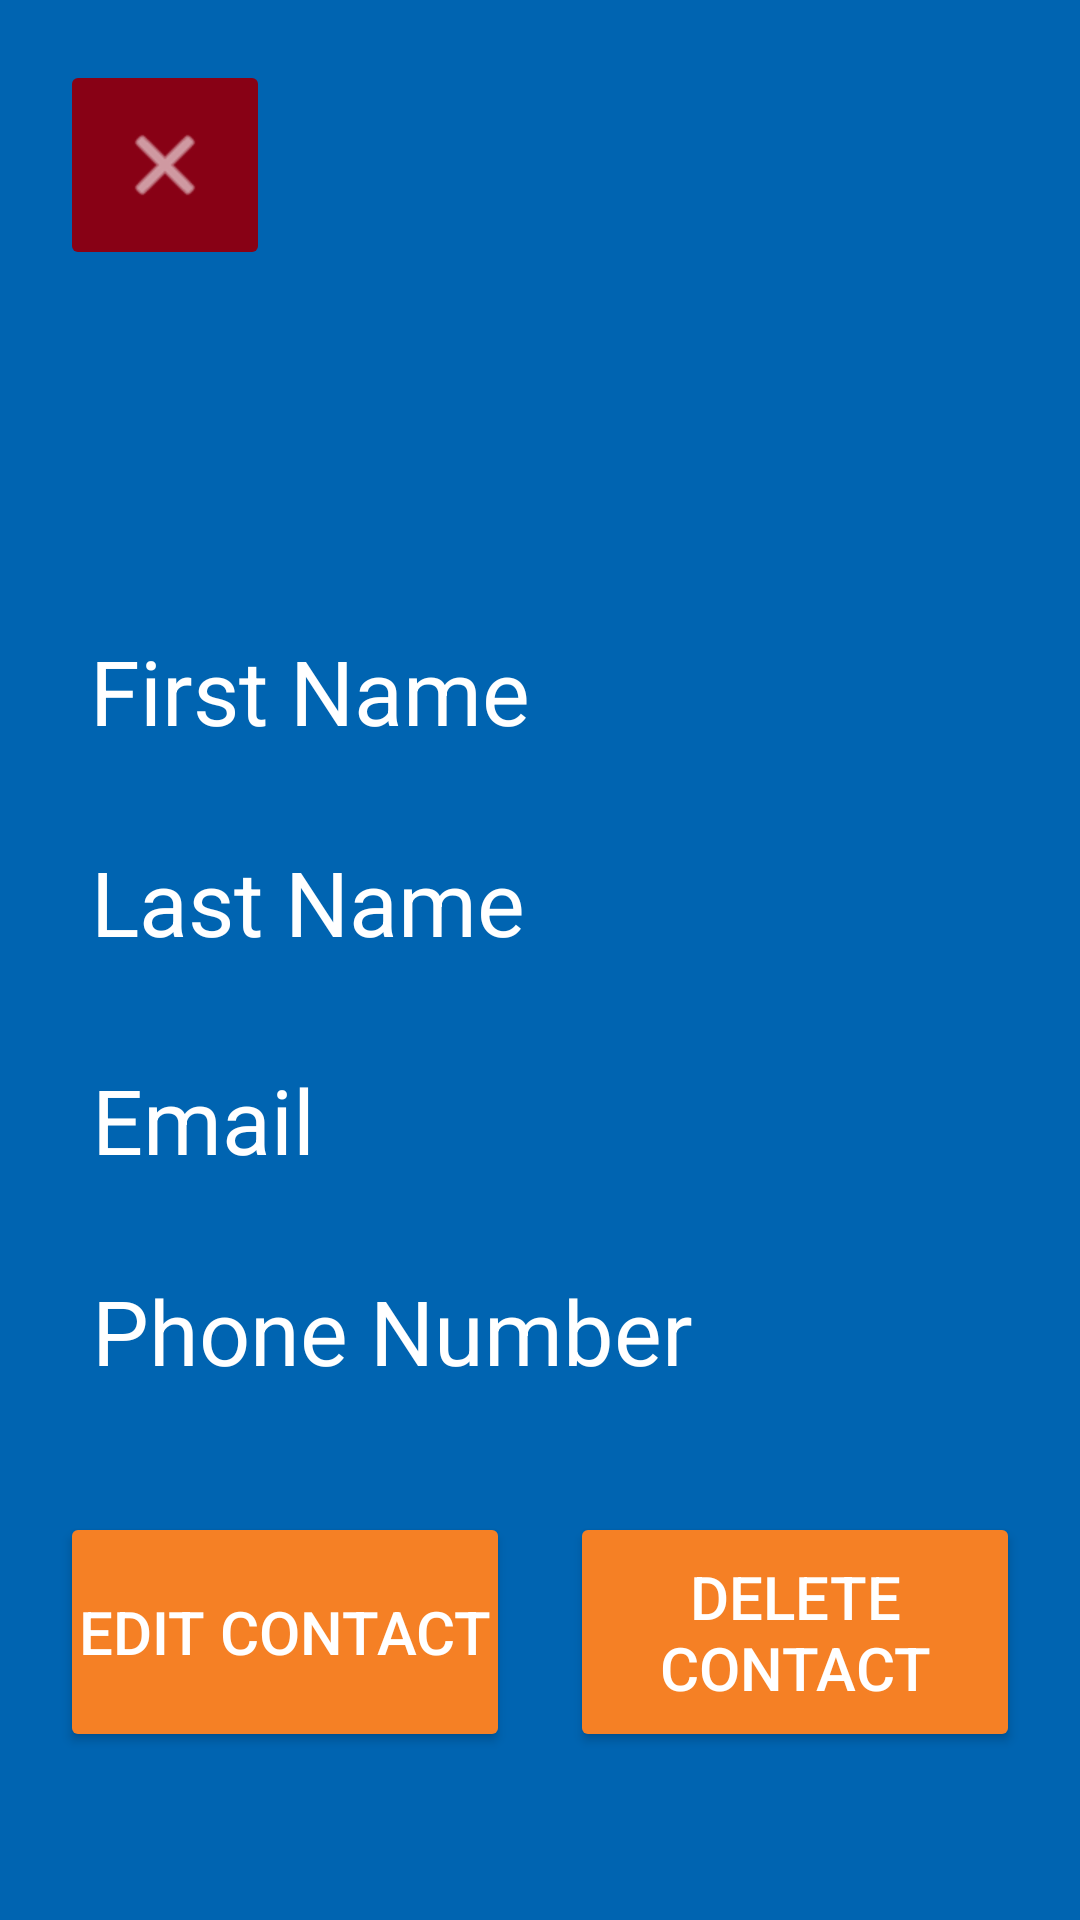

Screen size 1080 × 1920. Icon name, then its box in pixels as (x1, y1, x2, y2):
close clear cancel: (72, 78, 258, 252)
